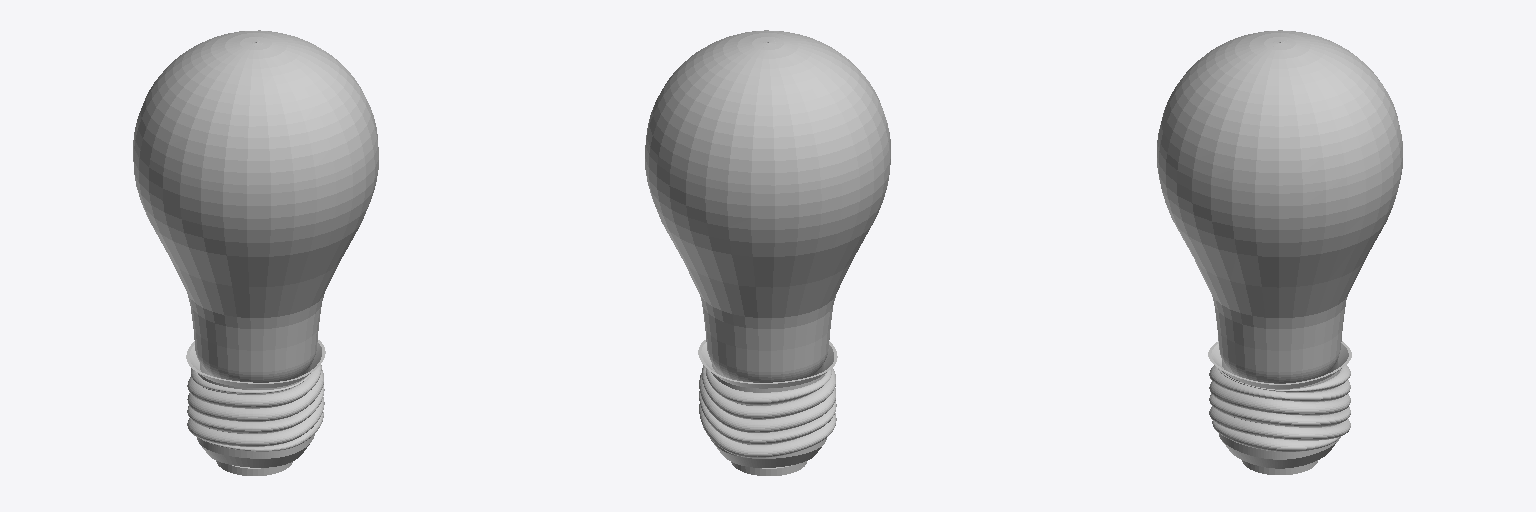
The model's file is light bulb.obj.
The picture shows the model from 3 angles: view 1: azimuth 30°, elevation 25°; view 2: azimuth 150°, elevation 25°; view 3: azimuth 270°, elevation 25°; orthographic projection.
Visible parts, largest first — view 1: Null_Object bulb, Null_Object BASE, Null_Object BASE CONTACT; view 2: Null_Object bulb, Null_Object BASE, Null_Object BASE CONTACT; view 3: Null_Object bulb, Null_Object BASE.
Part boxes in pixels (left/top/right/bottom): Null_Object bulb: left=133, top=30, right=378, bottom=382; Null_Object BASE: left=186, top=340, right=325, bottom=467; Null_Object BASE CONTACT: left=216, top=461, right=292, bottom=475; Null_Object bulb: left=645, top=30, right=890, bottom=382; Null_Object BASE: left=698, top=340, right=837, bottom=467; Null_Object BASE CONTACT: left=731, top=461, right=806, bottom=475; Null_Object bulb: left=1157, top=30, right=1402, bottom=383; Null_Object BASE: left=1208, top=341, right=1351, bottom=468.
Size of the model in its own units: 249 by 475 by 249.